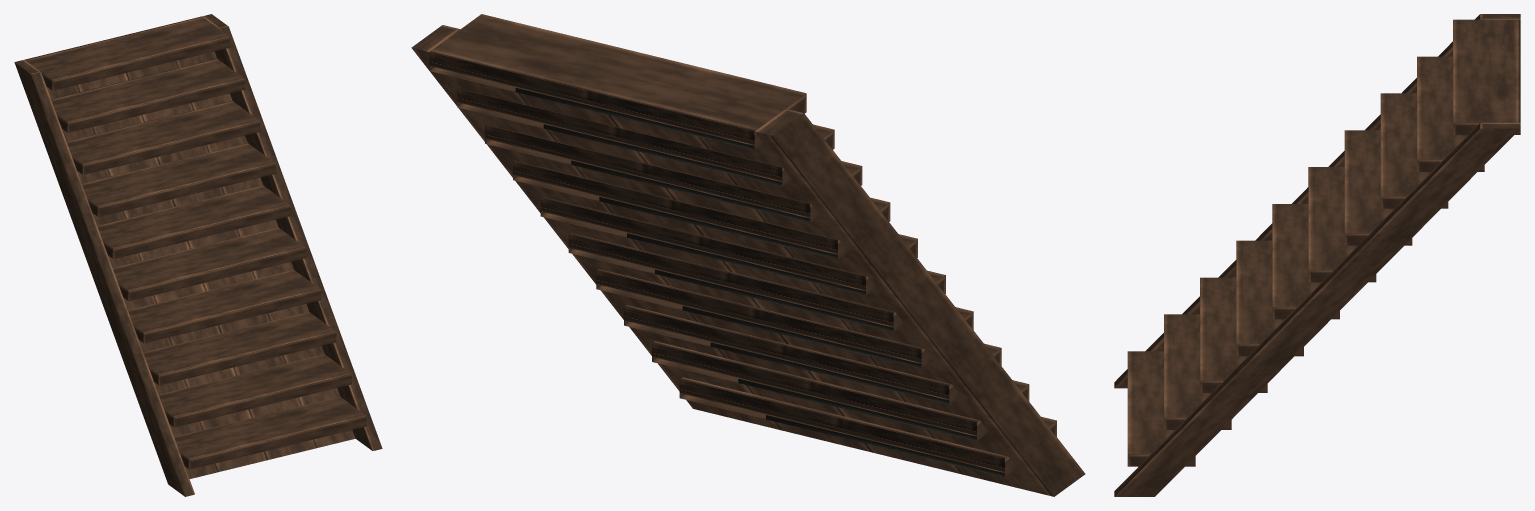
File: house_stairs.fbx
3 views of the same model, side by side, from view 1: azimuth 30°, elevation 25°; view 2: azimuth 150°, elevation 25°; view 3: azimuth 270°, elevation 25° (orthographic). The views are drawn at different scales.
Parts seen in each view (by area): view 1: house_stairs; view 2: house_stairs; view 3: house_stairs.
Part boxes in pixels (x1,y1,x2,y2): house_stairs: [14, 14, 382, 496]; house_stairs: [411, 14, 1085, 496]; house_stairs: [1114, 14, 1520, 496].
Bounding box in the file's own units: 200 × 300 × 300.
